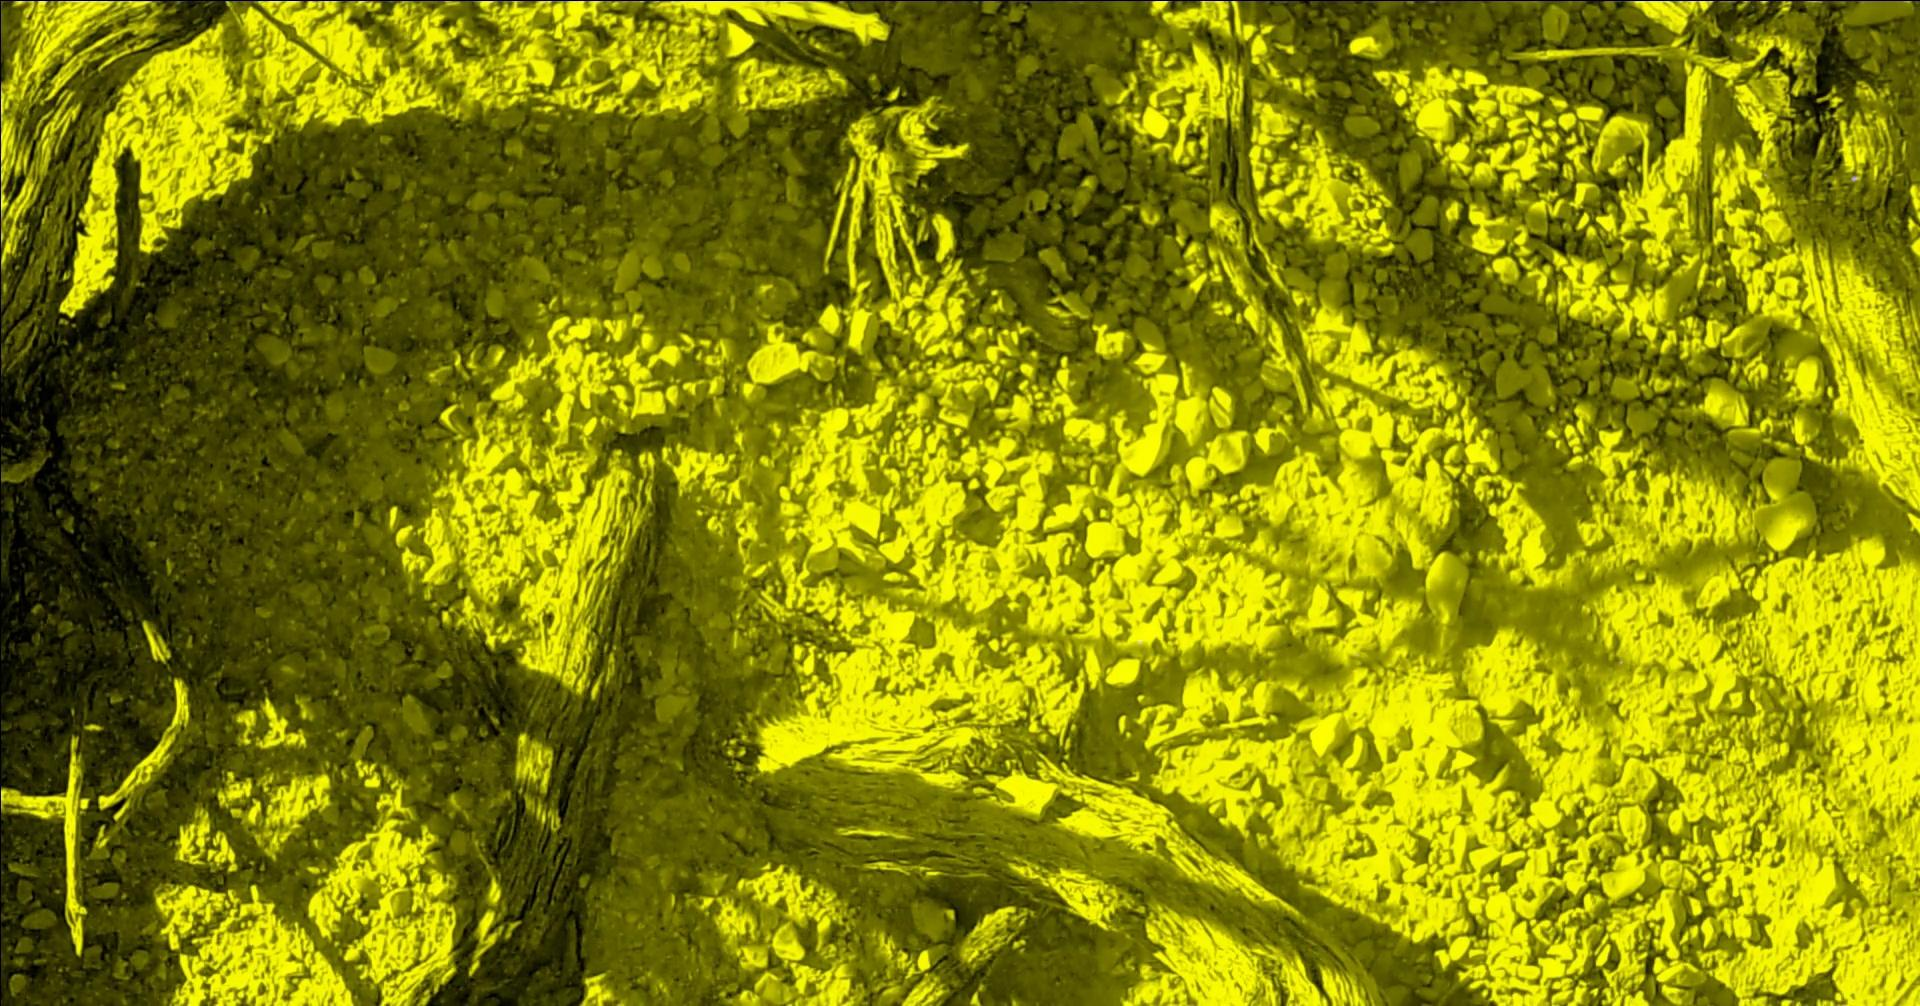ant: (0, 0, 13, 43), (1007, 0, 1150, 1), (1238, 0, 1299, 3), (1434, 0, 1512, 1)
